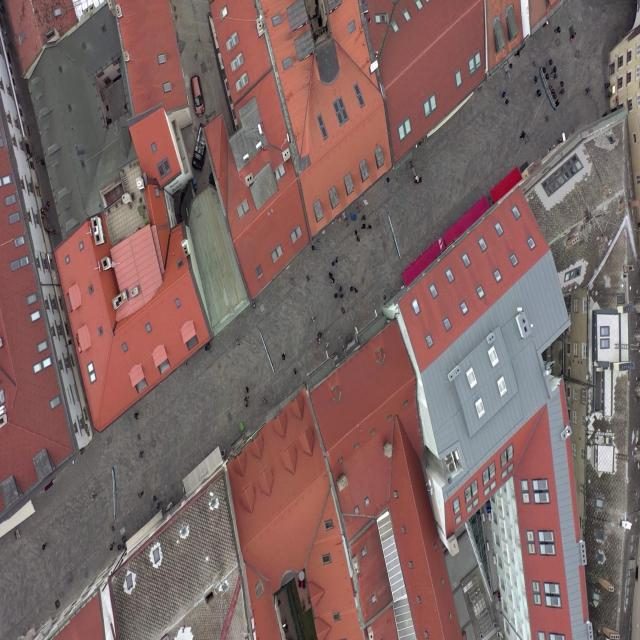Car: (189, 67, 207, 121), (190, 126, 210, 174)
